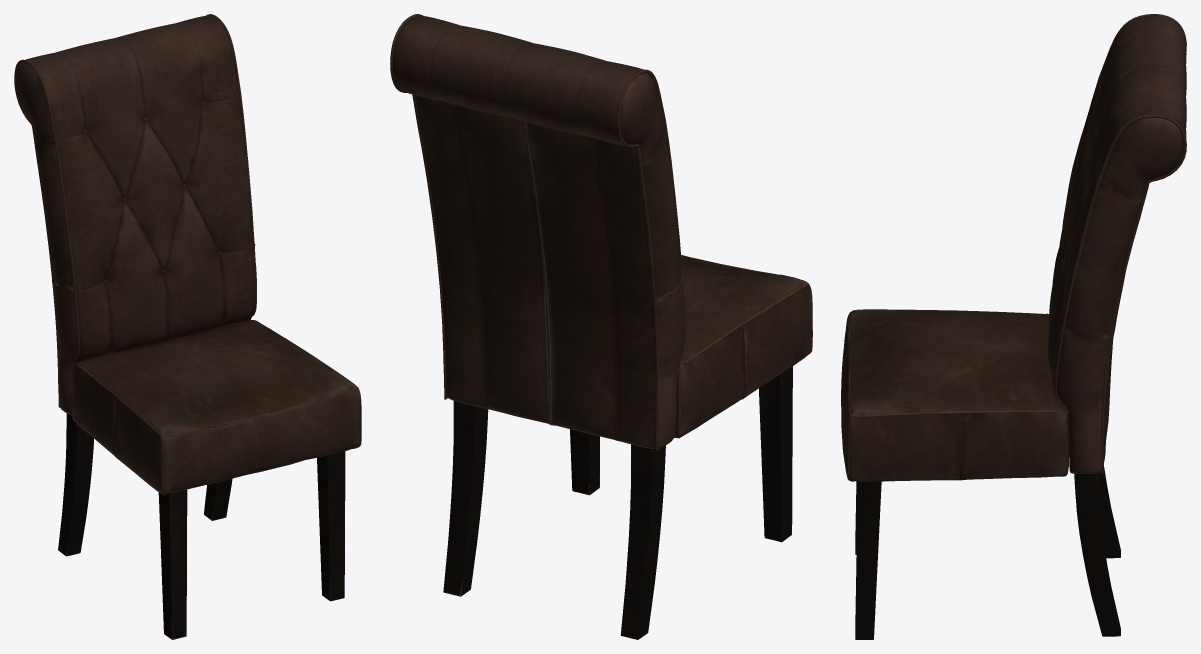
The model's file is ph-dining-chair.glb.
3 renders of one model, left to right at view 1: azimuth 30°, elevation 25°; view 2: azimuth 150°, elevation 25°; view 3: azimuth 270°, elevation 25°, orthographic. The views are drawn at different scales.
Visible parts, largest first — view 1: dining_chair_02; view 2: dining_chair_02; view 3: dining_chair_02.
Part boxes in pixels (x1,y1,x2,y2): dining_chair_02: (14, 14, 361, 639); dining_chair_02: (390, 14, 812, 639); dining_chair_02: (841, 14, 1186, 639).
Size of the model in its own units: 0.4336 by 0.9734 by 0.5764.
Materials: 1 (1 with a texture image).
